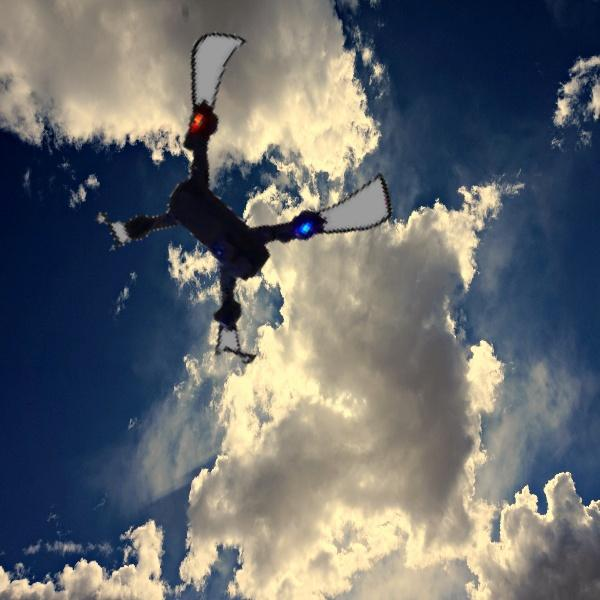drone: (94, 57, 384, 347)
